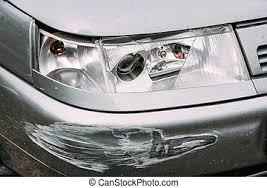Headlight-Damage: (30, 24, 243, 97)
front-bumper-dent: (0, 93, 259, 178)
